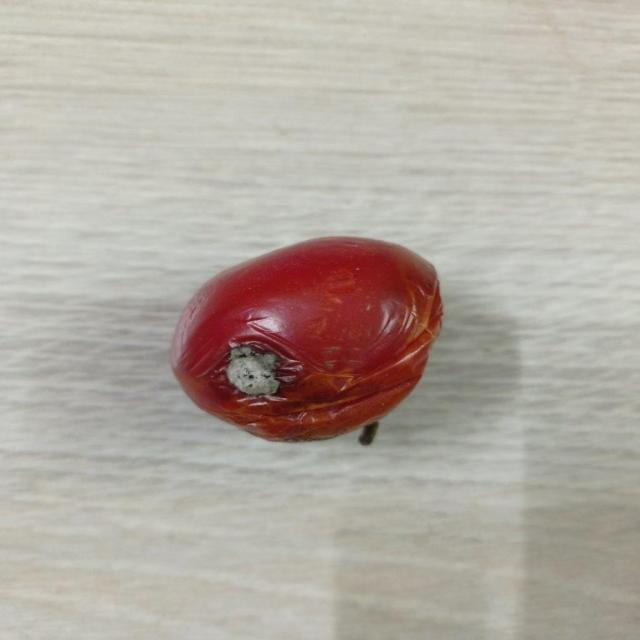Rotten: (172, 235, 441, 442)
